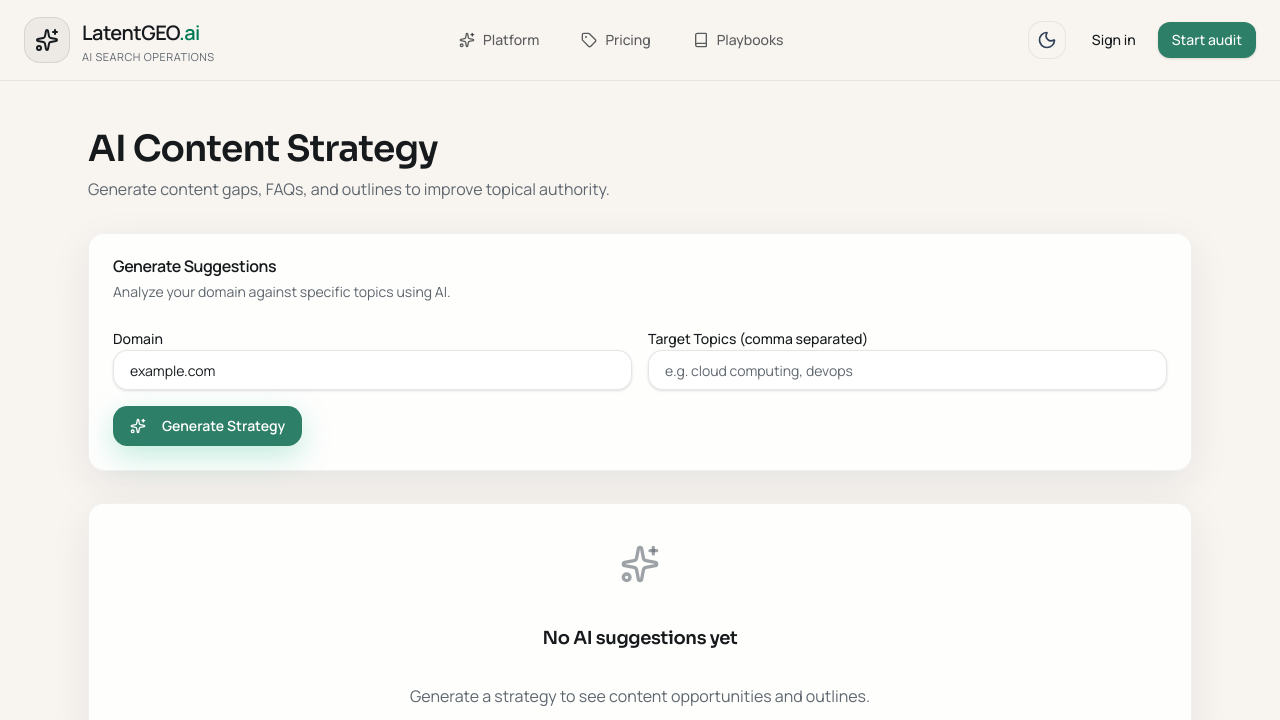
Test case: AIContentPage › shows Kimi backend detail errors and not legacy OpenAI/Gemini message
Type "AI" into the field with placeholder "e.g. cloud computing, devops" at x=908, y=370, box x1=648 y1=350 x2=1167 y2=390
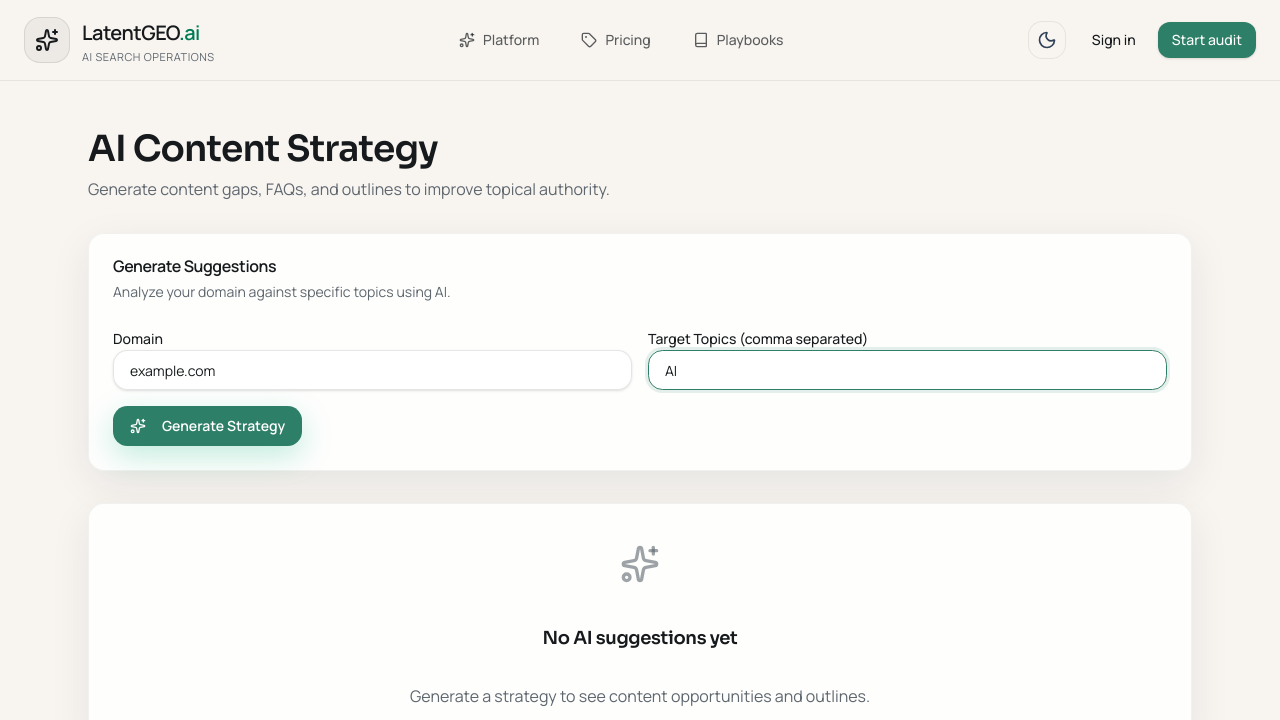
Click the button "Generate Strategy" at x=208, y=426, box x1=113 y1=406 x2=302 y2=446
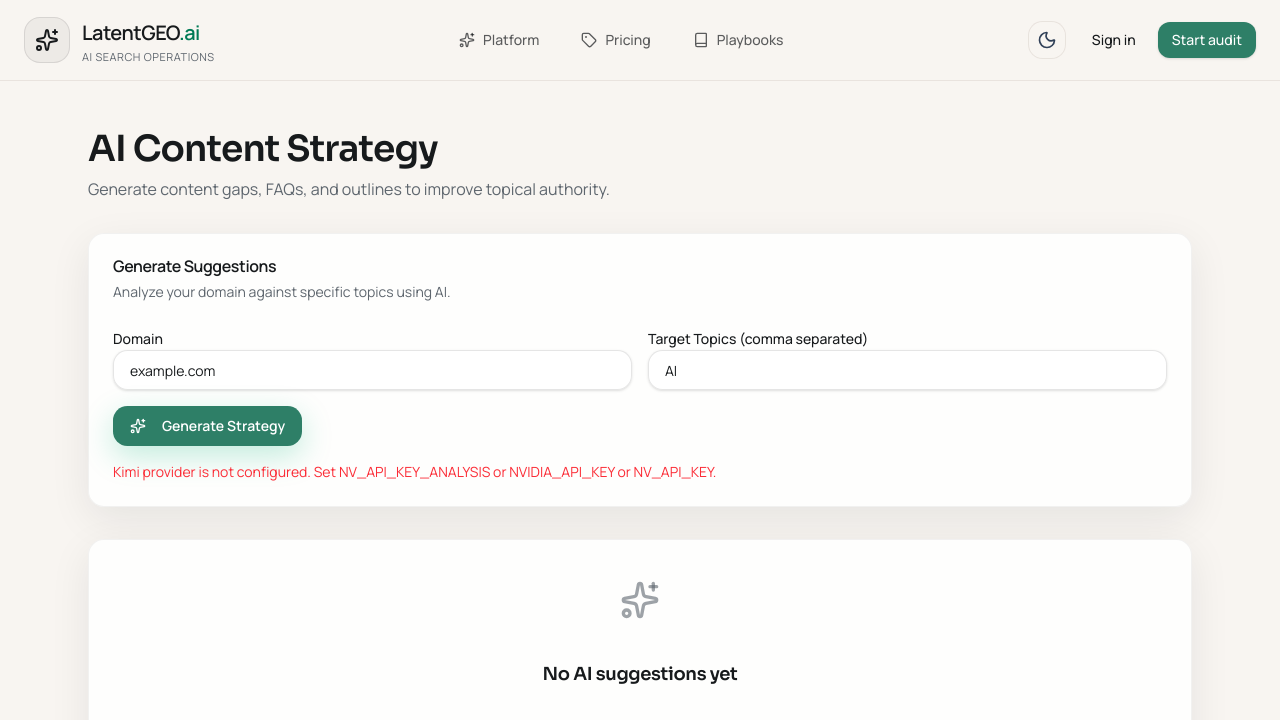
Result: the text "Kimi provider is not configured" is shown at x1=113 y1=462 x2=716 y2=481
